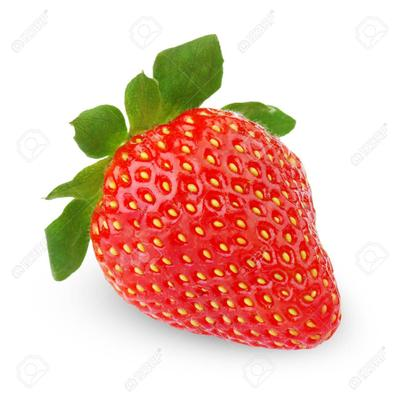strawberry: (0, 0, 400, 396)
